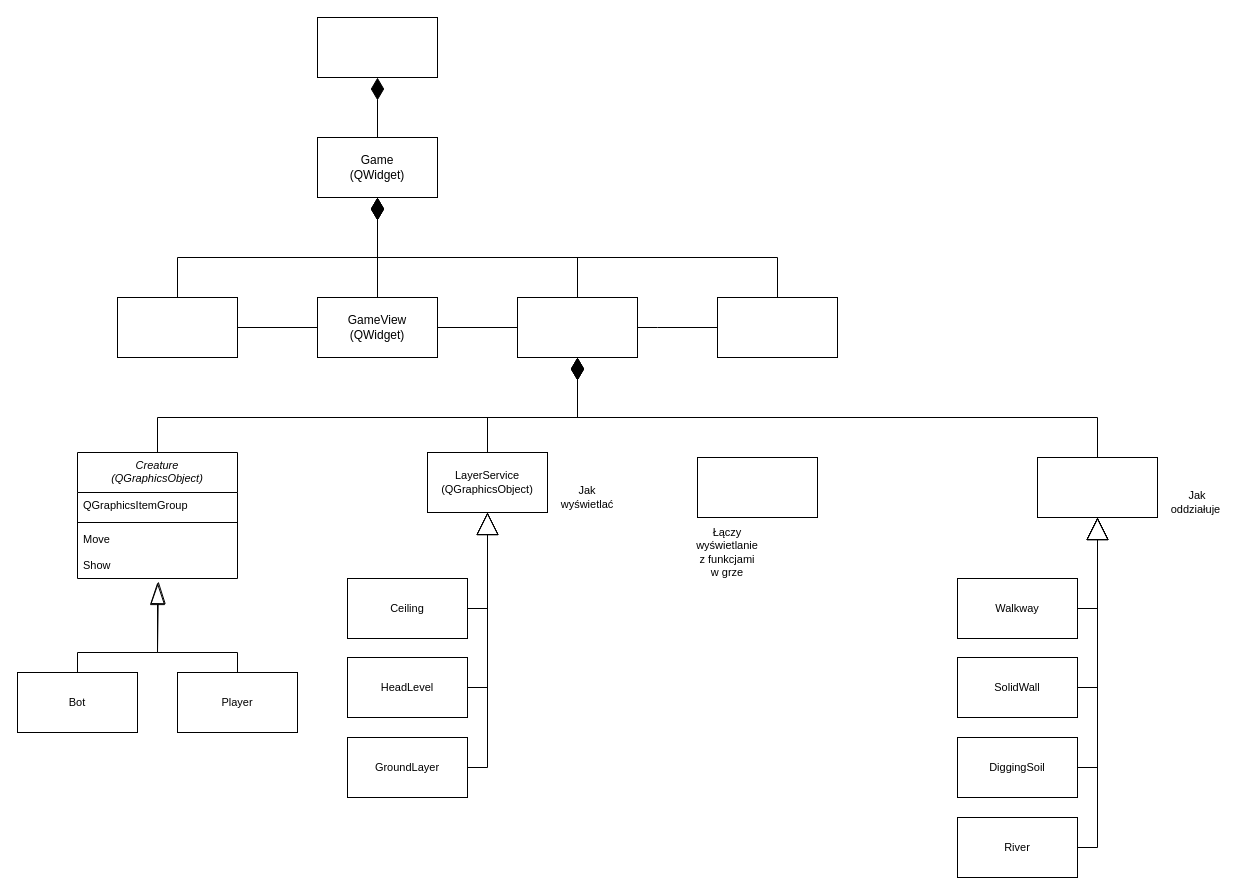
This 1245x895 diagram has some shape labels left out. The shapes that lost their labels are listed below. From the top down, each one's centre as x and y in pixels, then its label:
At pixel 377 47: "MainWindow (QWidget)".
At pixel 177 327: "GamePause (QWidget)".
At pixel 577 327: "GameBoard ( QGrpahicsScene)".
At pixel 777 327: "QTimer".
At pixel 757 487: "Map".
At pixel 1097 487: "AffectingStuff (QGraphicsObject)".
